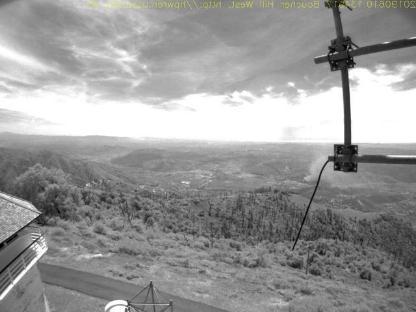smoke: (303, 154, 329, 186)
